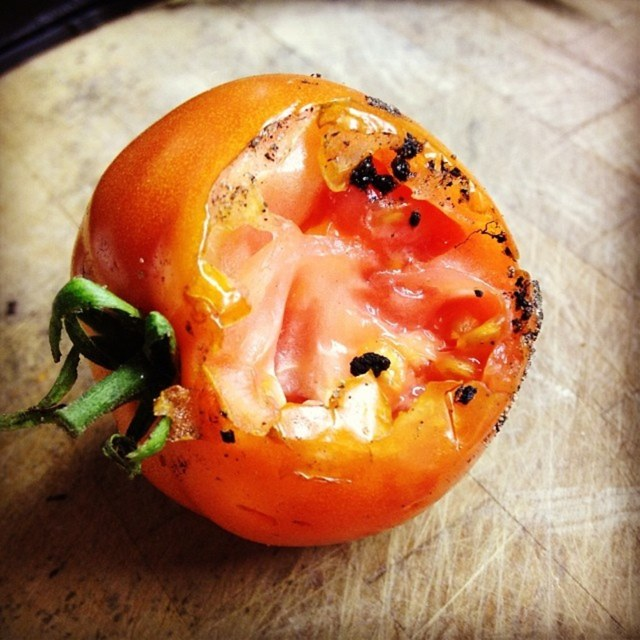tomato: (73, 76, 542, 545)
